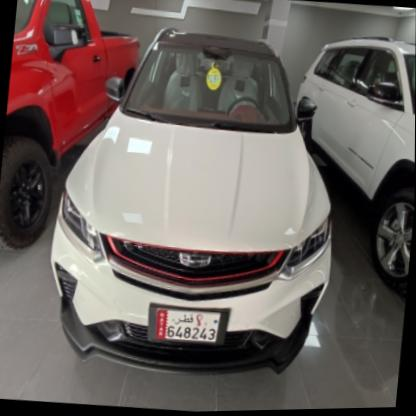np: (151, 304, 225, 351)
